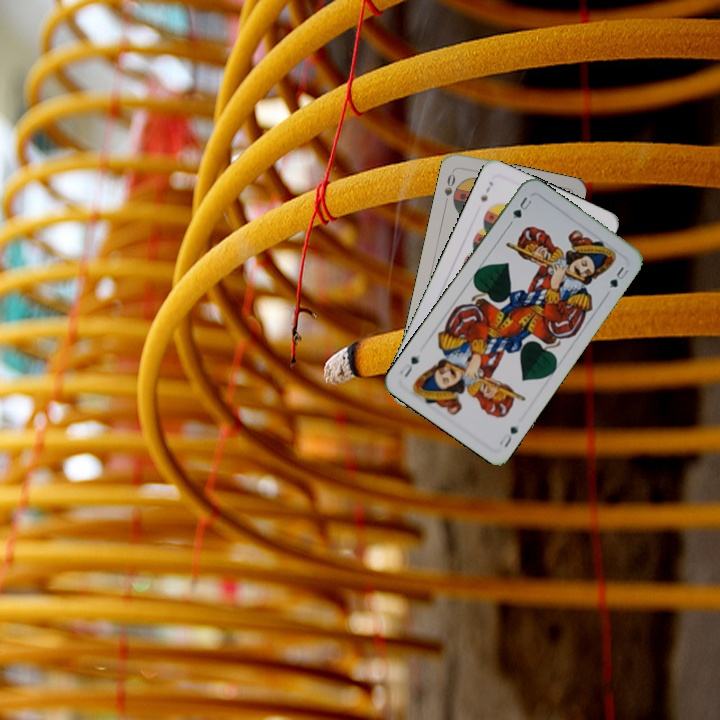GU: (495, 422, 521, 450), (509, 192, 534, 221)
S7: (476, 177, 496, 204)
SO: (440, 166, 458, 206)
